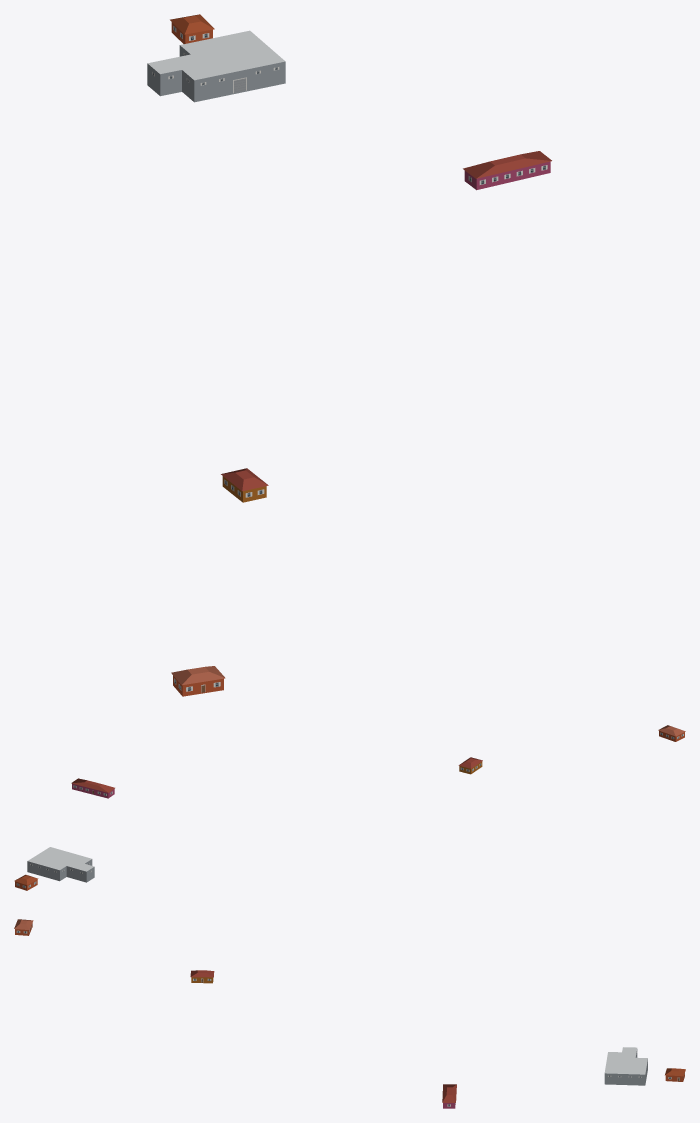
Rendered from msb_palmbeach_m21_m16.glb.
3 views of the same model, one above another, from view 1: azimuth 30°, elevation 25°; view 2: azimuth 150°, elevation 25°; view 3: azimuth 270°, elevation 25° (orthographic). The views are drawn at different scales.
Visible parts, largest first — view 1: msb_palmbeach_m21_m16_lod0; view 2: msb_palmbeach_m21_m16_lod0; view 3: msb_palmbeach_m21_m16_lod0.
Part boxes in pixels (x1,y1,x2,y2): msb_palmbeach_m21_m16_lod0: (147, 14, 551, 696); msb_palmbeach_m21_m16_lod0: (14, 725, 685, 890); msb_palmbeach_m21_m16_lod0: (14, 919, 685, 1108).
Size of what is drawn, in the model's own units: 238 by 11.72 by 348.
Materials: 3 (1 with a texture image).
